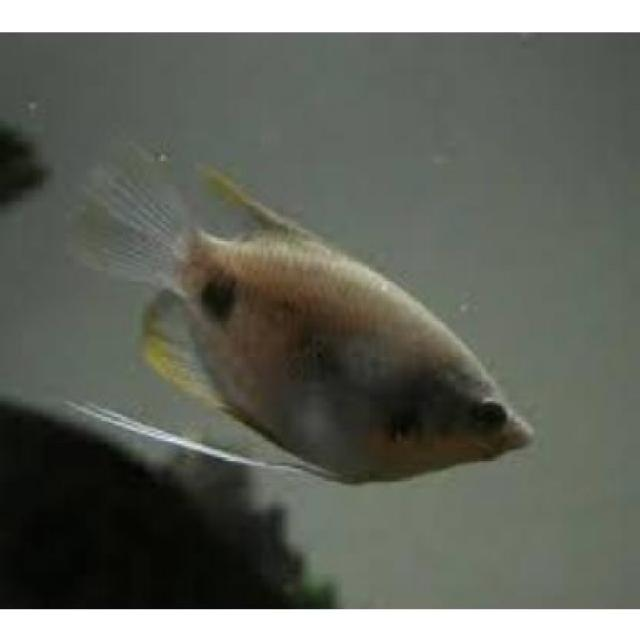gurame: (122, 177, 540, 485)
